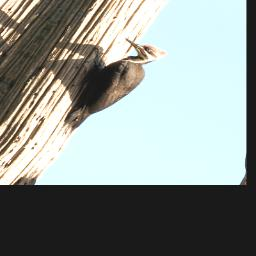Woodpecker: (37, 29, 170, 146)
